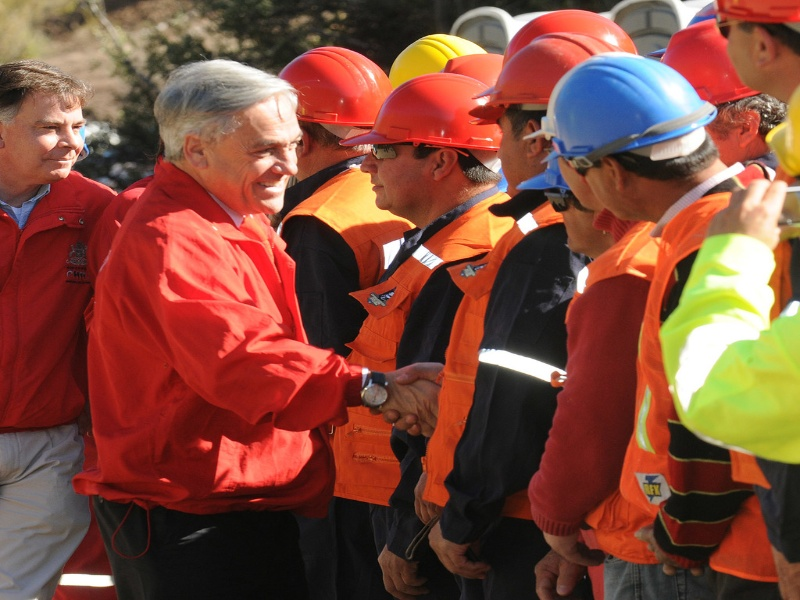Baret: (549, 53, 718, 164), (354, 71, 501, 156), (470, 37, 616, 109)
